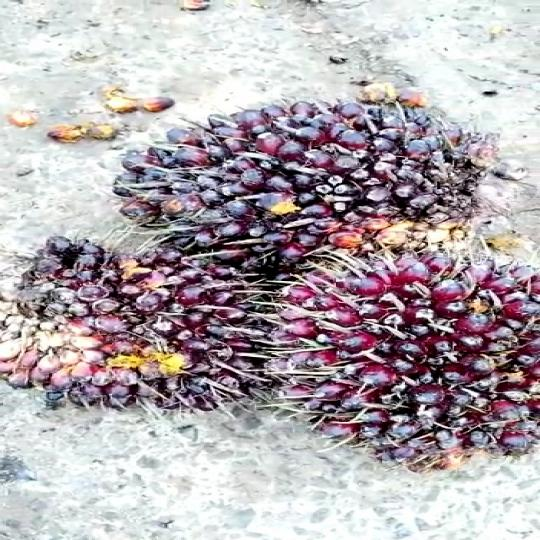kurang masak: (108, 95, 540, 293), (254, 231, 540, 495), (0, 228, 293, 440)
